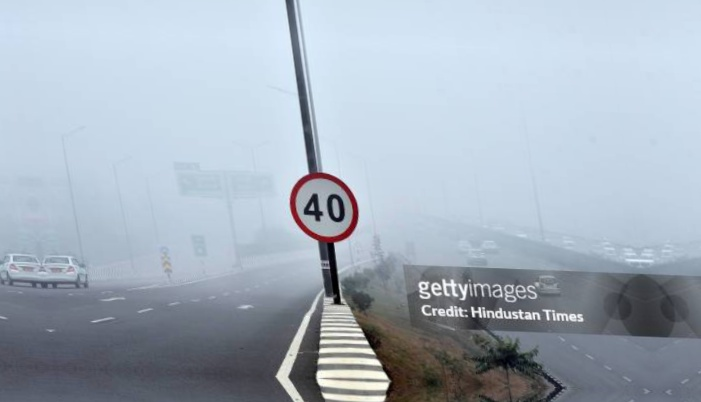Speed limit: (282, 170, 362, 244)
